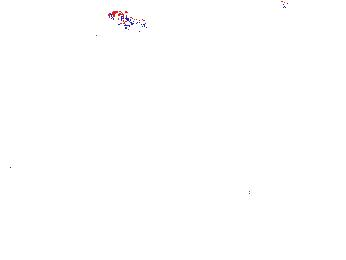X-ray fish: (223, 176, 256, 208)
glassfish: (289, 178, 346, 220)
red belly glassfish: (108, 10, 146, 26)
